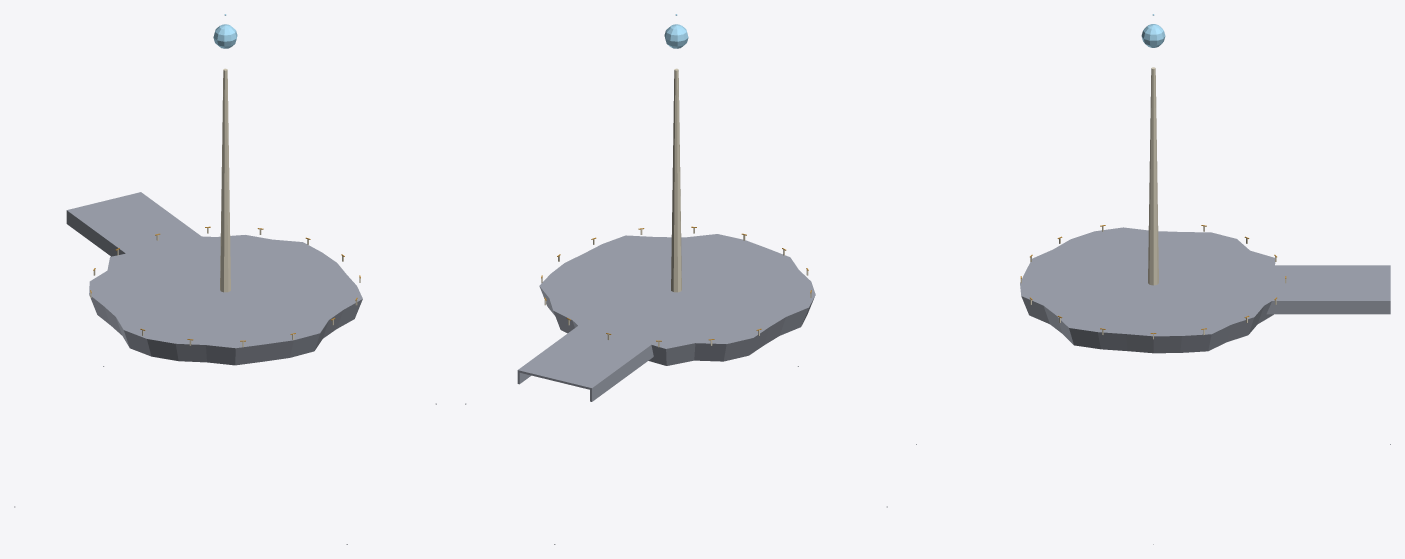
The model's file is chunk_es_cap_overlook.fbx.
3 renders of one model, left to right at view 1: azimuth 30°, elevation 25°; view 2: azimuth 150°, elevation 25°; view 3: azimuth 270°, elevation 25°, orthographic. The views are drawn at different scales.
Visible parts, largest first — view 1: ES_CAP_OVERLOOK; view 2: ES_CAP_OVERLOOK; view 3: ES_CAP_OVERLOOK.
Part boxes in pixels (bbox=[...]): ES_CAP_OVERLOOK: bbox=[14, 14, 436, 544]; ES_CAP_OVERLOOK: bbox=[465, 14, 887, 544]; ES_CAP_OVERLOOK: bbox=[916, 14, 1390, 544].
Size of the model in its own units: 256 by 256 by 256.
